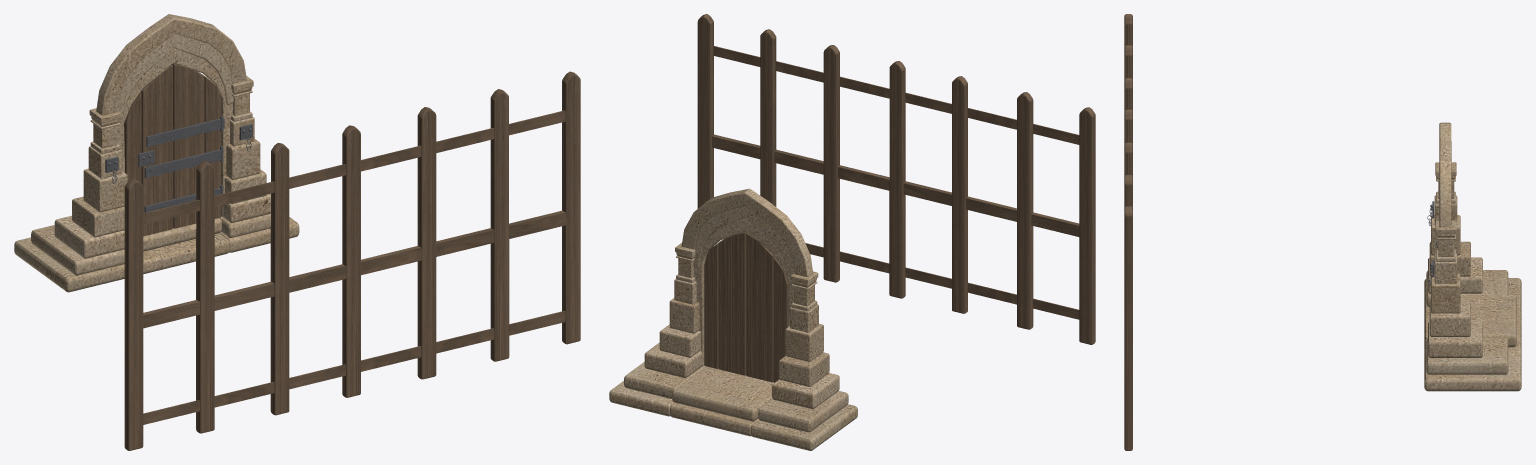
The model's file is DoorAndHedge.fbx.
3 renders of one model, left to right at view 1: azimuth 30°, elevation 25°; view 2: azimuth 150°, elevation 25°; view 3: azimuth 270°, elevation 25°, orthographic. The views are drawn at different scales.
Parts seen in each view (by area): view 1: pCube26, mainFrame, pCube61, leftDoor, rightDoor, middleDoor; view 2: pCube26, mainFrame, rightDoor, leftDoor, pCube61; view 3: mainFrame, pCube26.
Boxes of the visible parts, x1,y1,x2,y2 form: pCube26: (124, 71, 580, 450); mainFrame: (14, 14, 299, 292); pCube61: (143, 210, 565, 328); leftDoor: (124, 65, 173, 236); rightDoor: (172, 63, 221, 228); middleDoor: (144, 116, 224, 212); pCube26: (697, 14, 1095, 344); mainFrame: (609, 188, 857, 450); rightDoor: (704, 231, 746, 375); leftDoor: (746, 233, 788, 382); pCube61: (712, 134, 1079, 236); mainFrame: (1424, 122, 1521, 391); pCube26: (1124, 14, 1132, 450).
Size of the model in its own units: 28.88 by 16.4 by 24.37.
5 materials, 5 textured.
